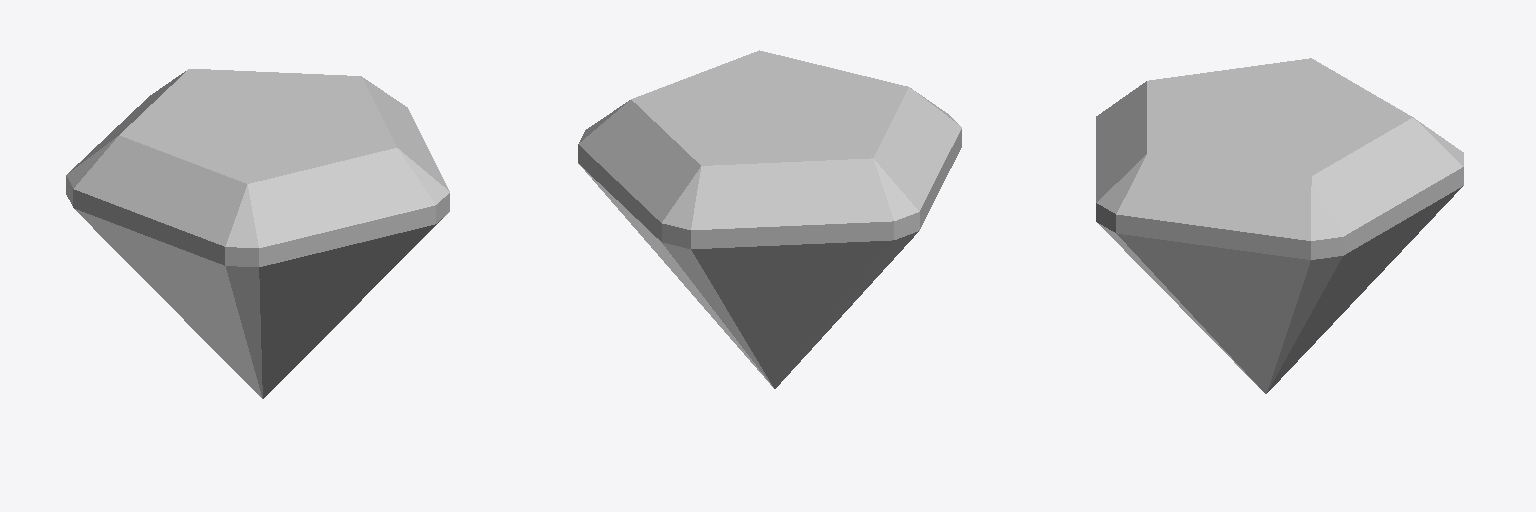
Rendered from 5-old-single-cut.obj.
3 views of the same model, side by side, from view 1: azimuth 30°, elevation 25°; view 2: azimuth 150°, elevation 25°; view 3: azimuth 270°, elevation 25° (orthographic).
Parts seen in each view (by area): view 1: gem_Cylinder; view 2: gem_Cylinder; view 3: gem_Cylinder.
Boxes of the visible parts, x1,y1,x2,y2 form: gem_Cylinder: [66, 69, 449, 398]; gem_Cylinder: [578, 50, 961, 388]; gem_Cylinder: [1096, 58, 1463, 393].
Bounding box in the file's own units: 18.4 × 14.59 × 17.5.